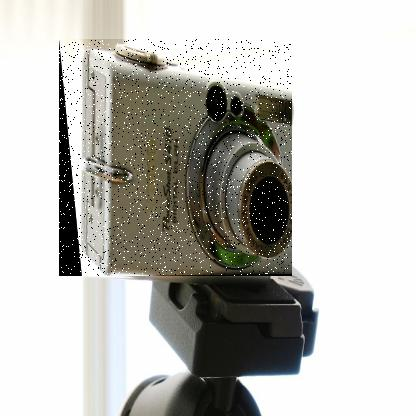Camera: (60, 40, 294, 278)
